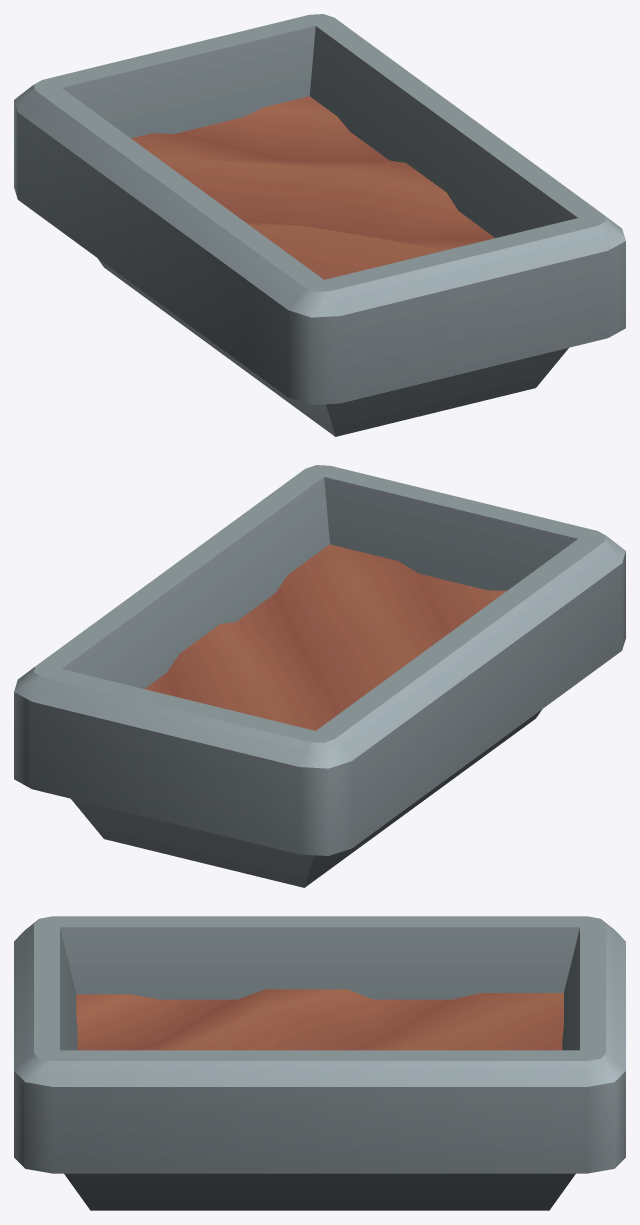
The model's file is ic_a_counter.glb.
The picture shows the model from 3 angles, top to bottom: view 1: azimuth 30°, elevation 25°; view 2: azimuth 150°, elevation 25°; view 3: azimuth 270°, elevation 25°; orthographic projection.
Parts seen in each view (by area): view 1: icecream_container, icecream_container_icecream_chocolate; view 2: icecream_container, icecream_container_icecream_chocolate; view 3: icecream_container, icecream_container_icecream_chocolate.
Boxes of the visible parts, x1,y1,x2,y2 form: icecream_container: (14,14,625,436); icecream_container_icecream_chocolate: (131,96,494,279); icecream_container: (14,465,625,887); icecream_container_icecream_chocolate: (145,544,506,730); icecream_container: (14,916,625,1210); icecream_container_icecream_chocolate: (76,989,563,1050).
Size of the model in its own units: 1.4 by 0.7 by 2.24.
2 materials, 2 textured.
